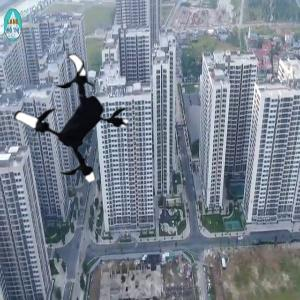drone: (4, 52, 138, 186)
